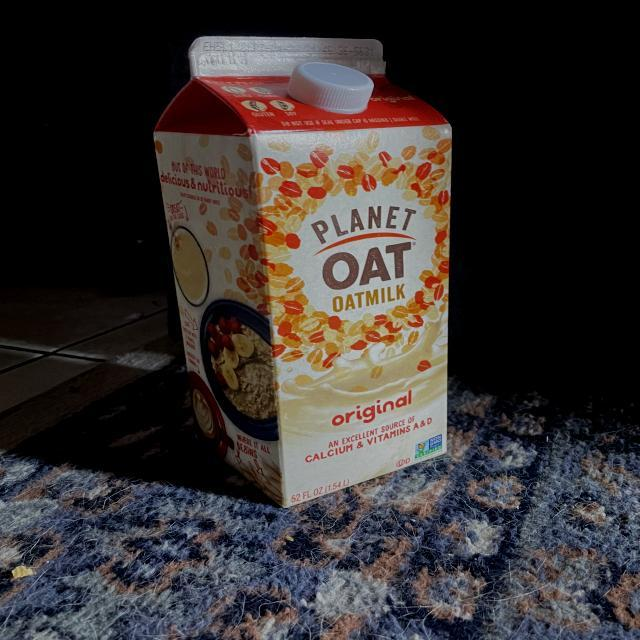Planet Oat Original: (130, 18, 471, 516)
